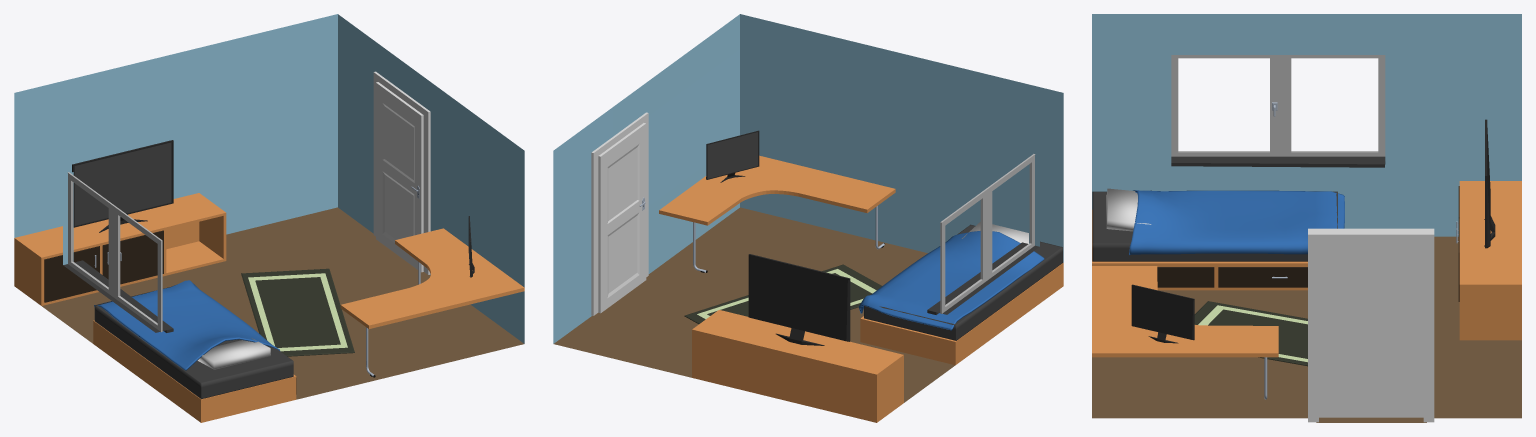
File: Room.gltf
3 views of the same model, side by side, from view 1: azimuth 30°, elevation 25°; view 2: azimuth 150°, elevation 25°; view 3: azimuth 270°, elevation 25° (orthographic). The views are drawn at different scales.
Visible parts, largest first — view 1: Walls, TVDesk, DeskPlate, Carpet, Door, Blanket, TV, BedBase, Mattress, WindowSill, DoorBase, Pillow; view 2: Walls, TVDesk, Door, Blanket, DeskPlate, TV, BedBase, WindowSill, Mattress, DoorBase, TV.001, Carpet; view 3: Walls, Door, Blanket, TVDesk, DeskPlate, DoorBase, WindowSill, BedBase, Mattress, Carpet, TV.001, Pillow (+1 smaller).
Part boxes in pixels (bbox=[...]): Walls: bbox=[14, 14, 524, 399]; TVDesk: bbox=[14, 193, 226, 305]; DeskPlate: bbox=[340, 228, 524, 328]; Carpet: bbox=[241, 268, 354, 356]; Door: bbox=[376, 82, 423, 272]; Blanket: bbox=[94, 280, 279, 370]; TV: bbox=[72, 140, 173, 232]; BedBase: bbox=[93, 320, 296, 422]; Mattress: bbox=[94, 286, 293, 399]; WindowSill: bbox=[67, 172, 162, 332]; DoorBase: bbox=[373, 71, 430, 274]; Pillow: bbox=[197, 338, 270, 369]; Walls: bbox=[553, 14, 1063, 402]; TVDesk: bbox=[692, 310, 903, 422]; Door: bbox=[598, 123, 646, 313]; Blanket: bbox=[858, 231, 1044, 330]; DeskPlate: bbox=[659, 155, 895, 225]; TV: bbox=[748, 254, 850, 345]; BedBase: bbox=[860, 263, 1063, 365]; WindowSill: bbox=[940, 154, 1035, 313]; Mattress: bbox=[864, 224, 1062, 340]; DoorBase: bbox=[591, 112, 648, 315]; TV.001: bbox=[706, 130, 759, 182]; Carpet: bbox=[684, 264, 881, 323]; Walls: bbox=[1092, 14, 1521, 422]; Door: bbox=[1319, 242, 1423, 417]; Blanket: bbox=[1129, 190, 1344, 255]; TVDesk: bbox=[1458, 181, 1521, 340]; DeskPlate: bbox=[1092, 266, 1278, 357]; DoorBase: bbox=[1308, 228, 1434, 422]; WindowSill: bbox=[1171, 55, 1385, 156]; BedBase: bbox=[1092, 210, 1307, 290]; Mattress: bbox=[1092, 191, 1337, 261]; Carpet: bbox=[1194, 301, 1307, 366]; TV.001: bbox=[1131, 284, 1194, 343]; Pillow: bbox=[1106, 188, 1151, 231].
Bounding box in the file's own units: 3.71 × 2 × 3.5.
